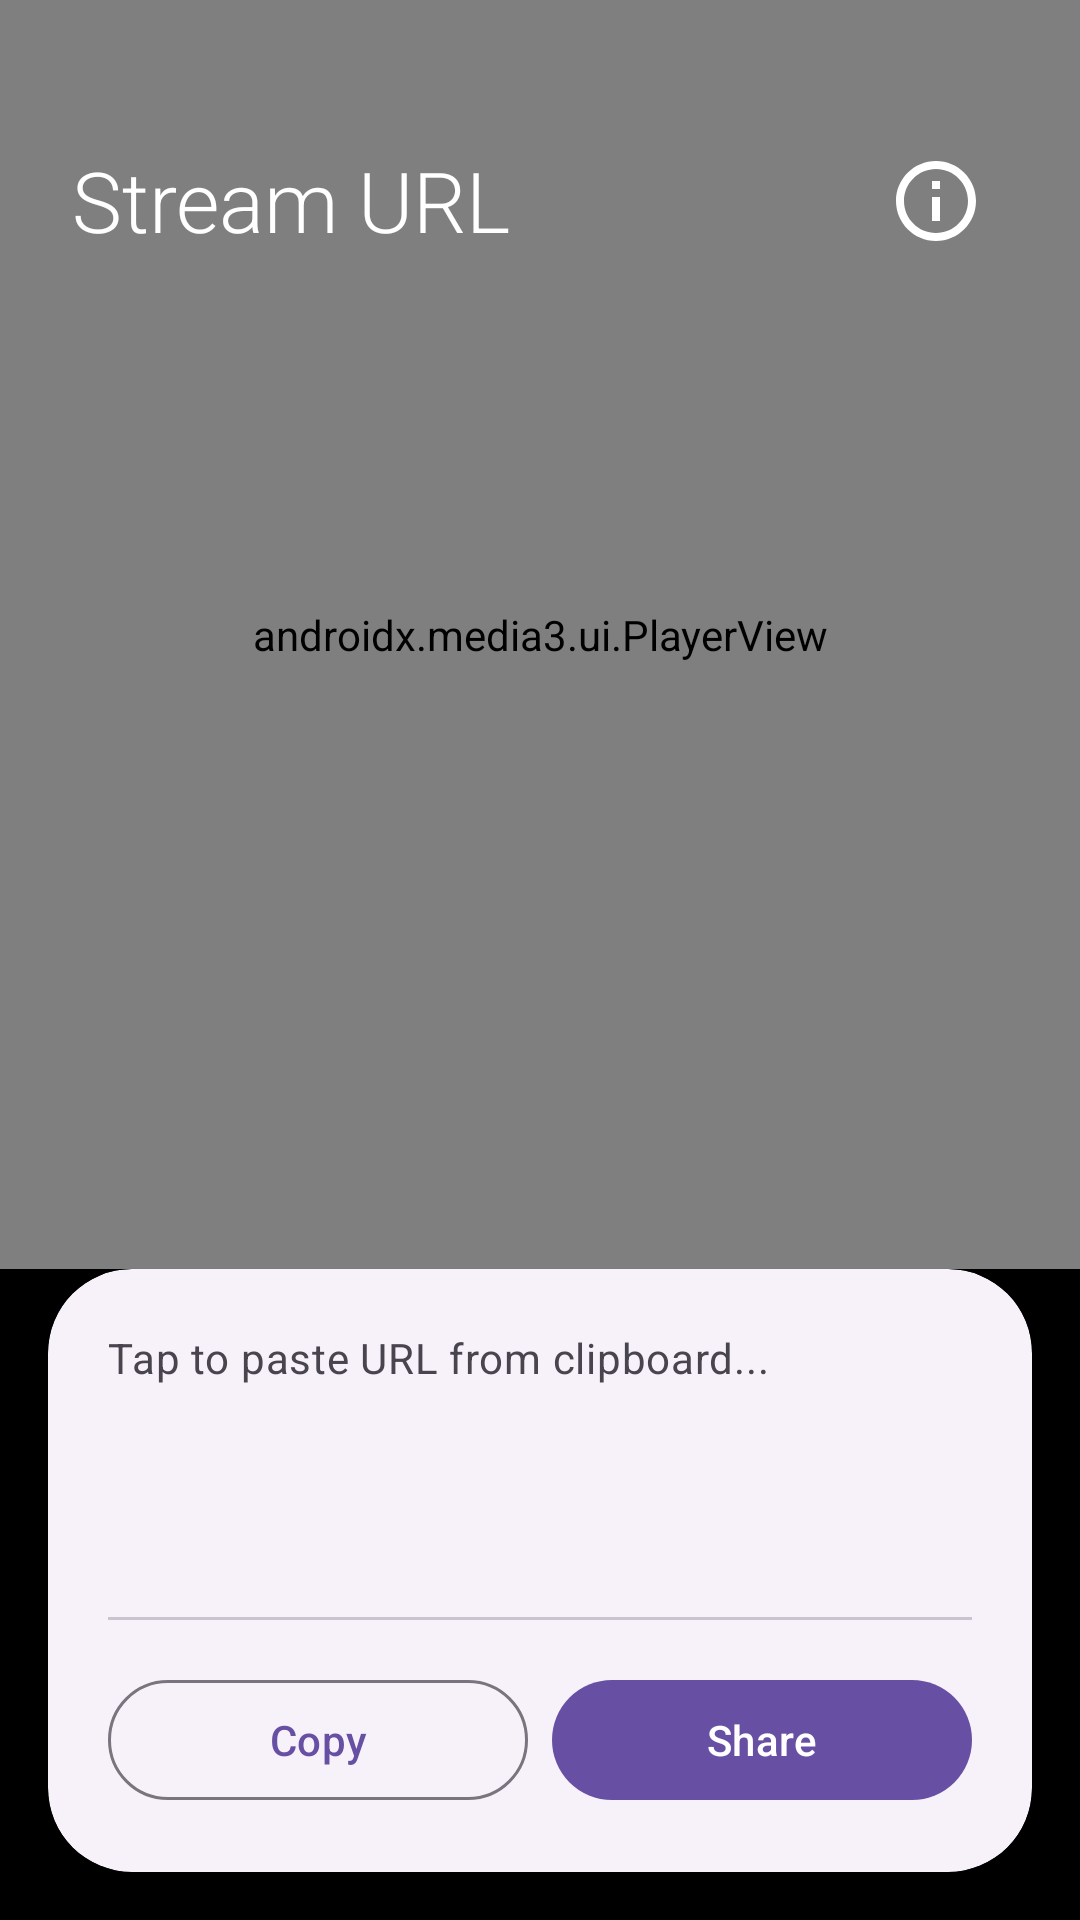

Named icons in this screenshot (1080w x 1920h) and their centers, (x,y):
About: (936,201)
